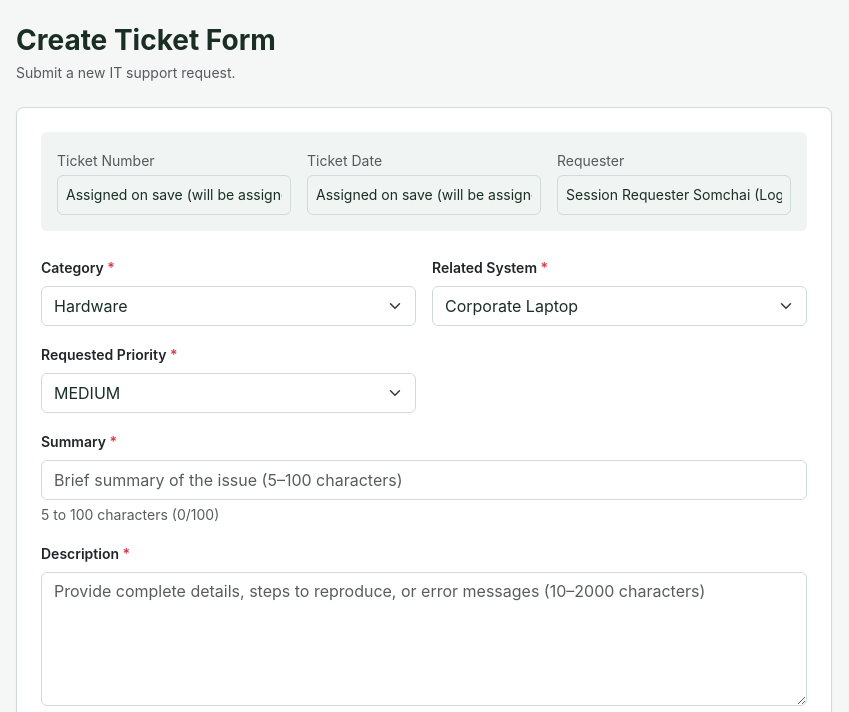
Test case: Phase F2 / P06 Session Identity in Requester Ticket Flow › submits ticket using authenticated session identity when legacy currentRequester is null
expect the field showing "Session Requester Somchai (Logistics)" below "Requester" is shown: met, box [557, 175, 791, 215]
# Fill the form
Step 1. Type "Broken keyboard key" into the field labelled "Summary *" → (424, 480), box [41, 460, 807, 500]
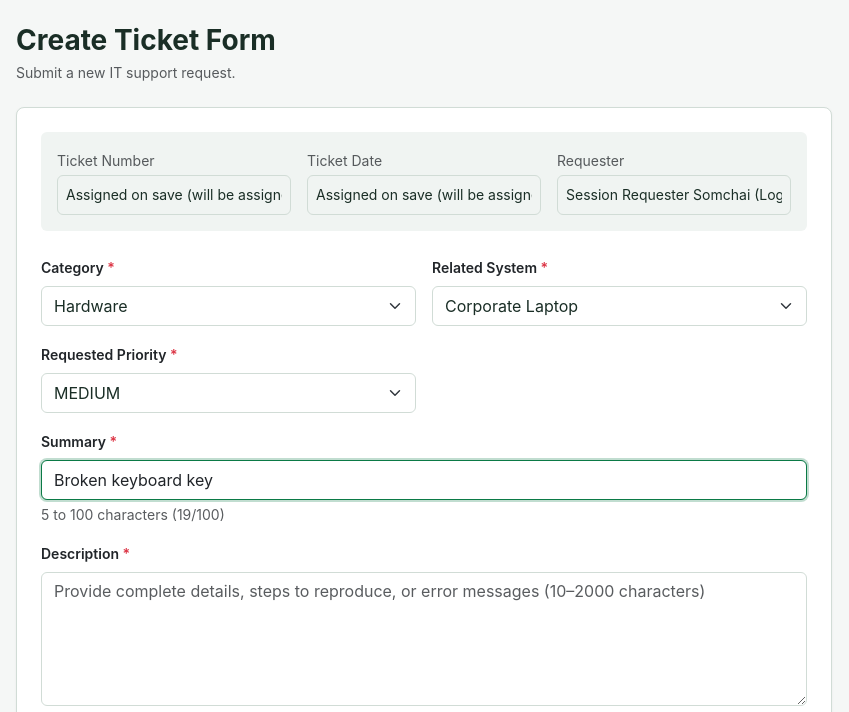
Step 2. Type "Spacebar is completely stuck and cannot type" into the text box labelled "Description *" → (424, 639), box [41, 572, 807, 706]
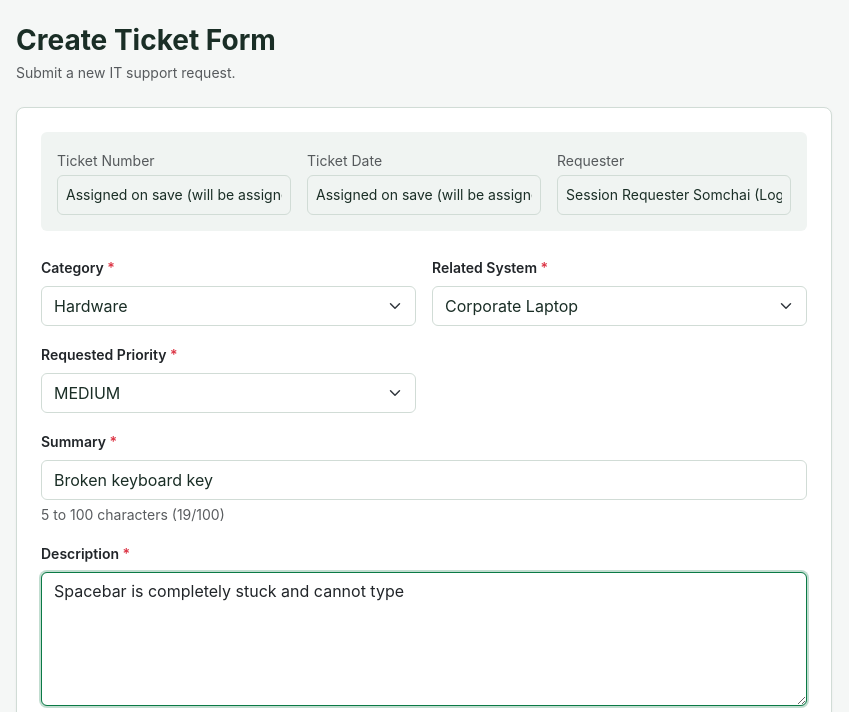
Step 3. Select "Hardware" in the dropdown labelled "Category *" → (228, 306), box [41, 286, 416, 326]
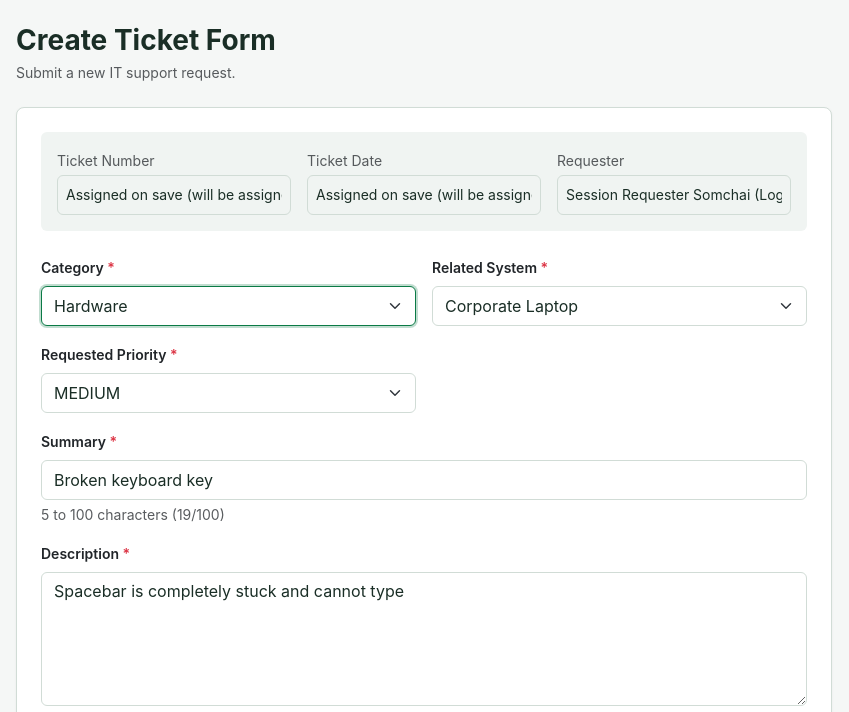
Step 4. Select "Corporate Laptop" in the dropdown labelled "Related System *" → (620, 306), box [432, 286, 807, 326]
(page scrolled)
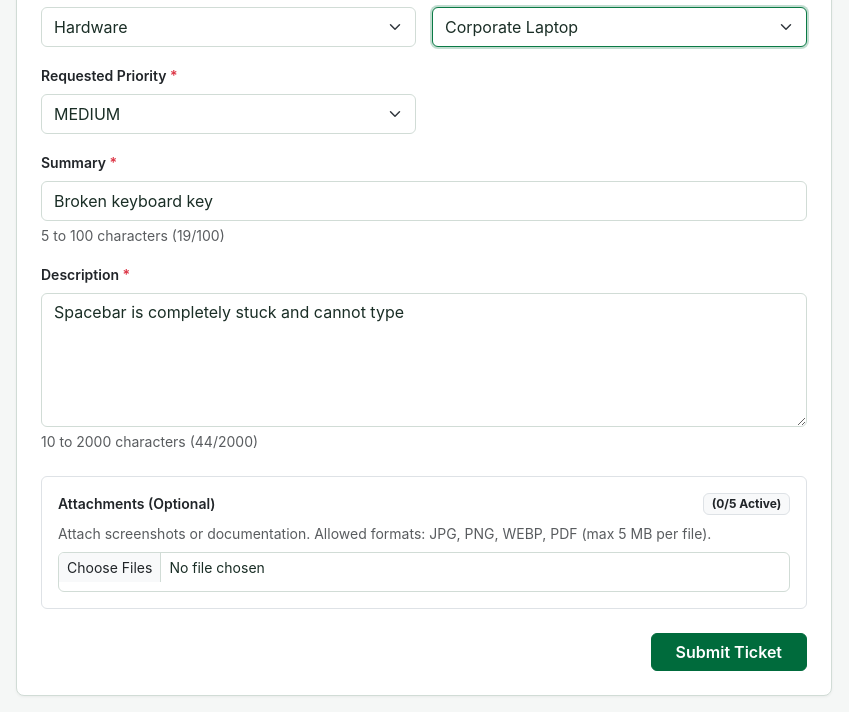
# Submit form
Step 5. Click the button "Submit Ticket" → (729, 652), box [651, 633, 807, 671]
(page scrolled)
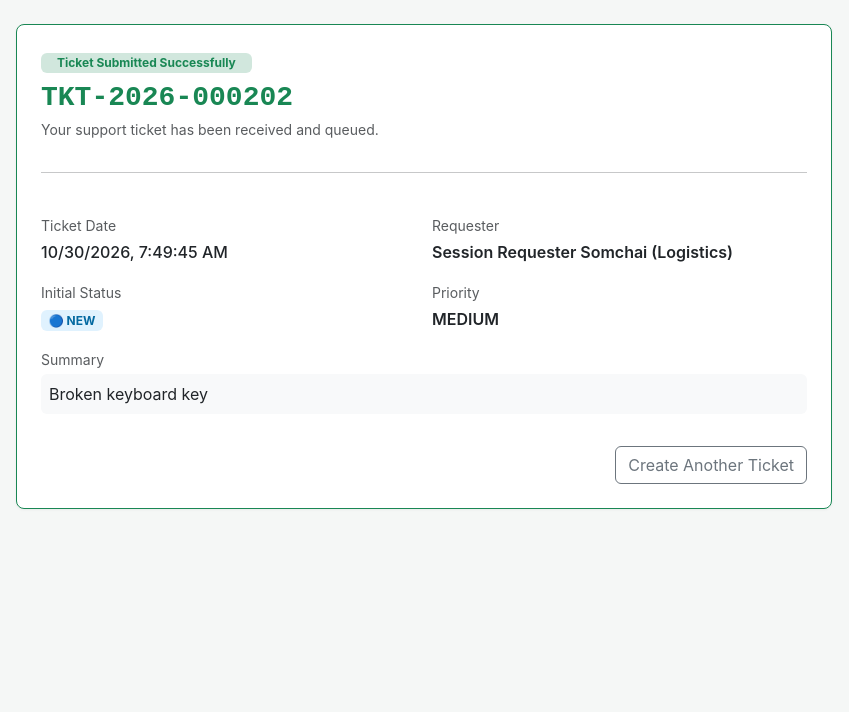
expect the heading with test id "success-ticket-no" reads "TKT-2026-000202": met, box [41, 82, 293, 113]
expect the text with test id "success-requester" reads "Session Requester Somchai (Logistics)": met, box [432, 242, 733, 262]
